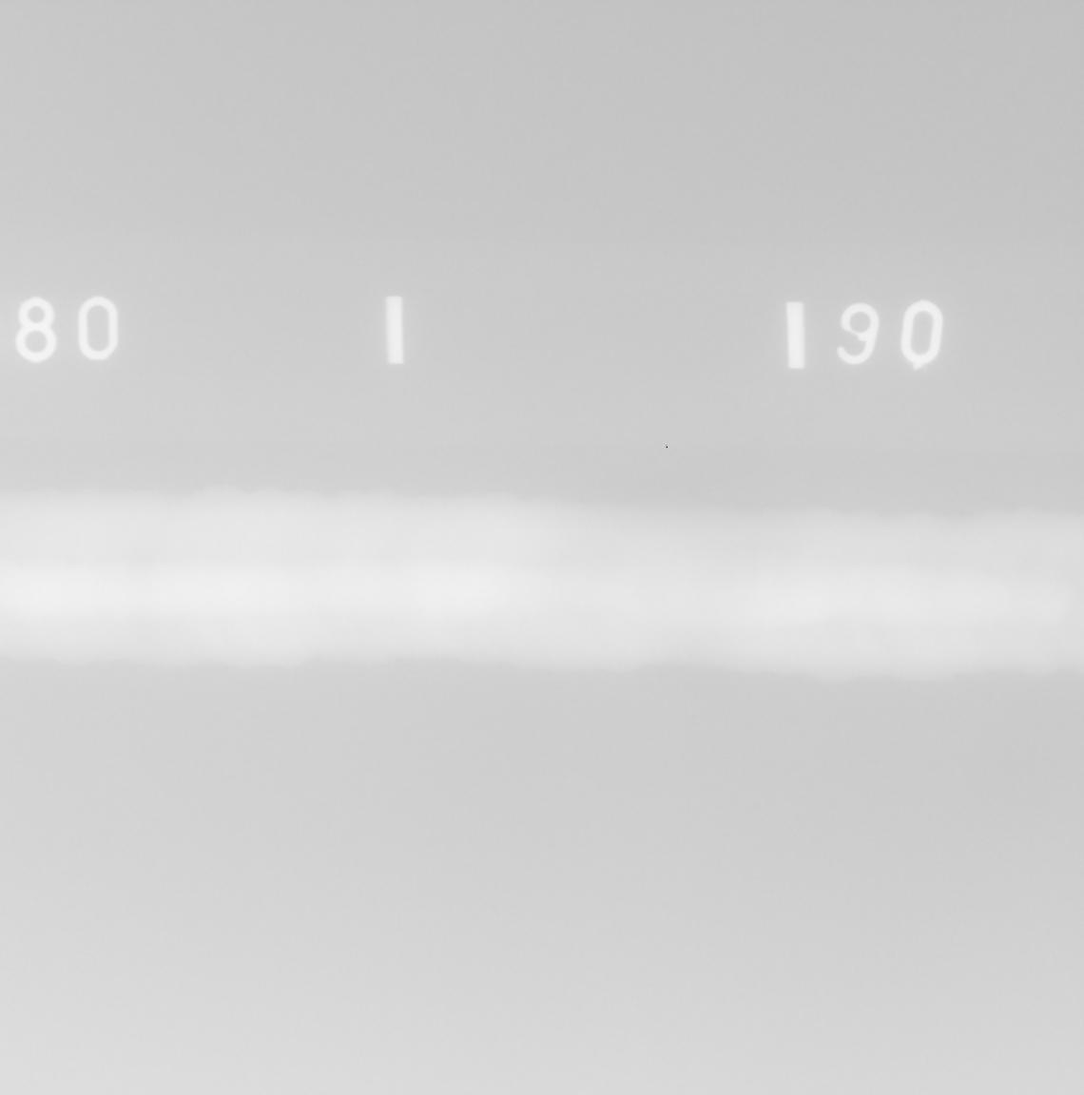Inclusion: (416, 608, 422, 613)
